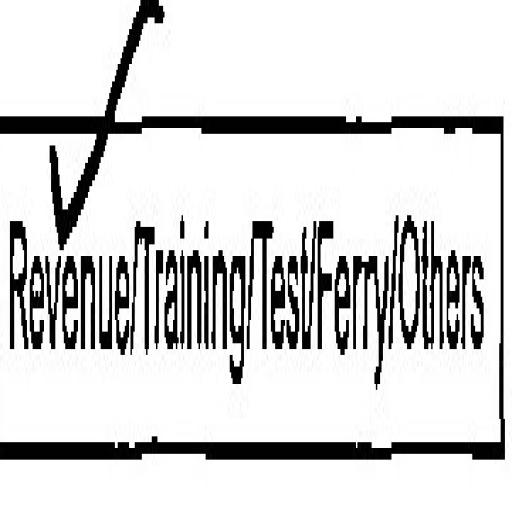check: (0, 0, 134, 471)
